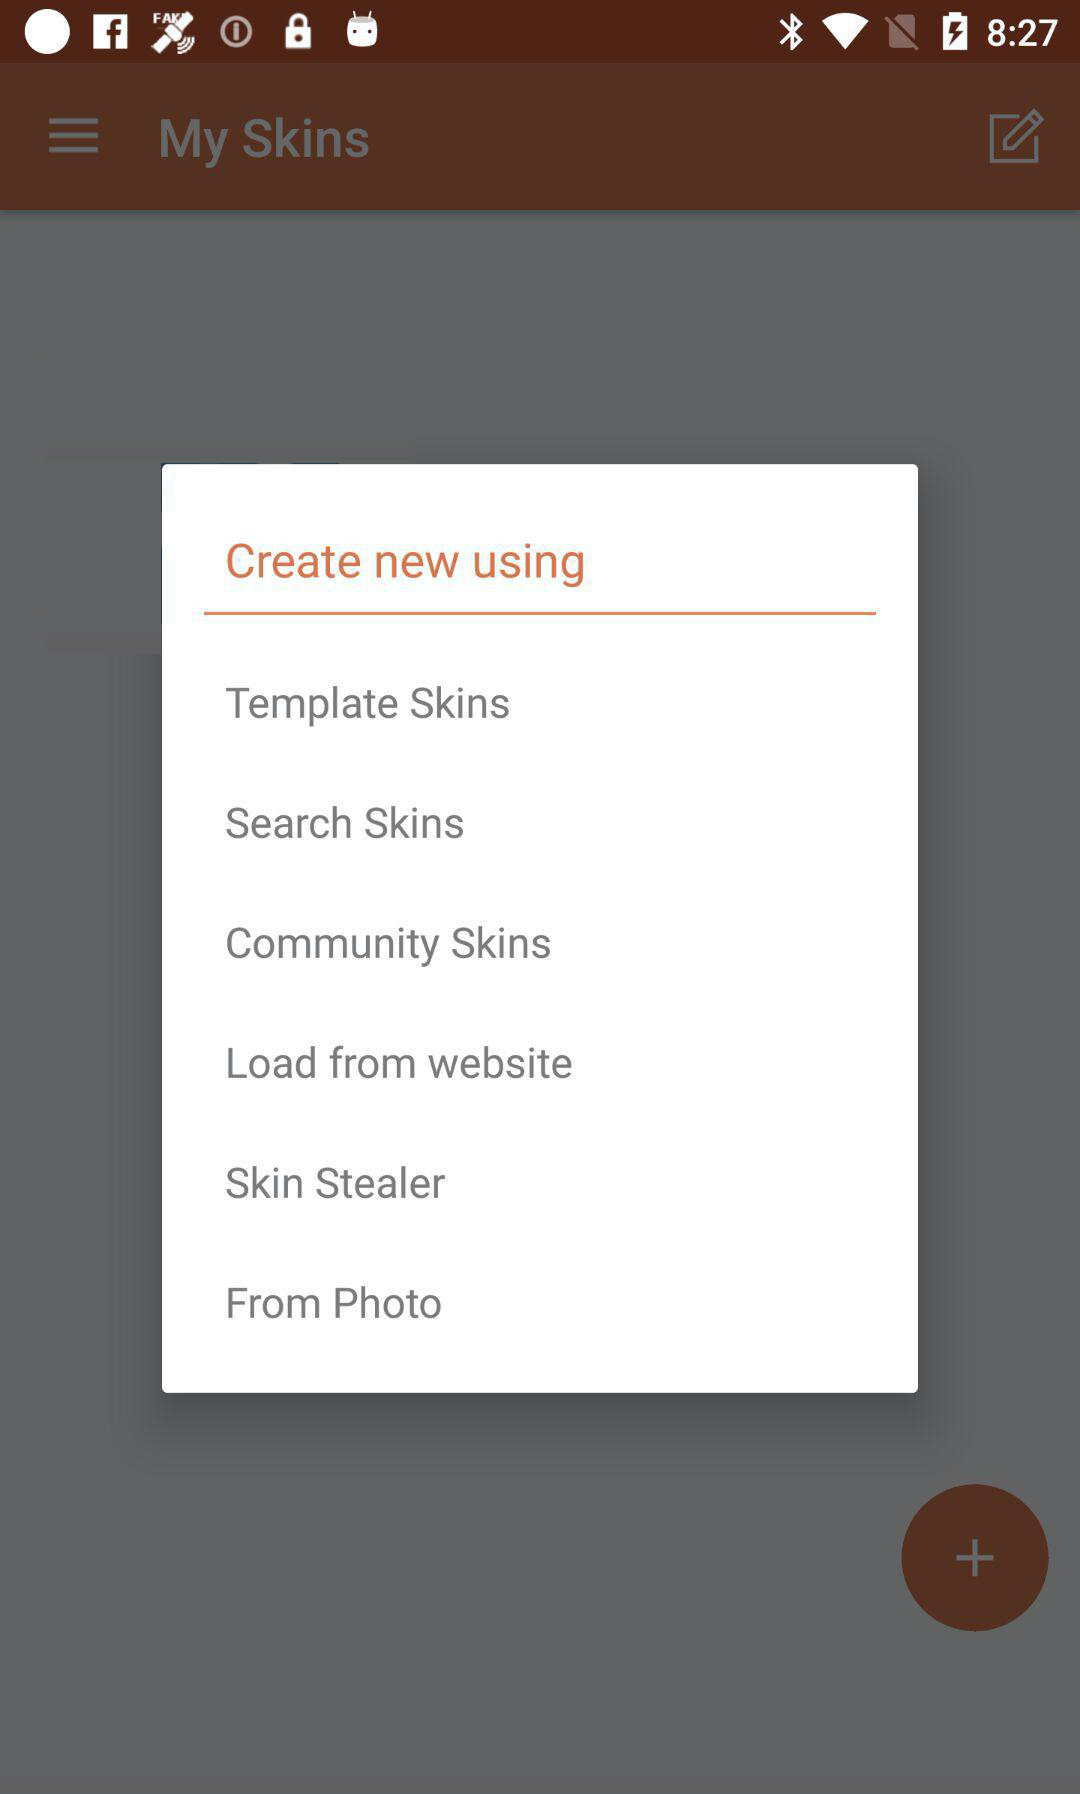Icon: (901, 1483, 1051, 1633), (988, 108, 1045, 165), (49, 117, 100, 155)
Modal: (161, 464, 919, 1394)
Text: (227, 542, 585, 589), (227, 925, 552, 967), (225, 686, 510, 729), (228, 1044, 573, 1080), (159, 117, 370, 170), (225, 805, 465, 841), (225, 1165, 447, 1201), (227, 1285, 443, 1320)
UpperTaskBar: (1, 1, 1080, 64)
